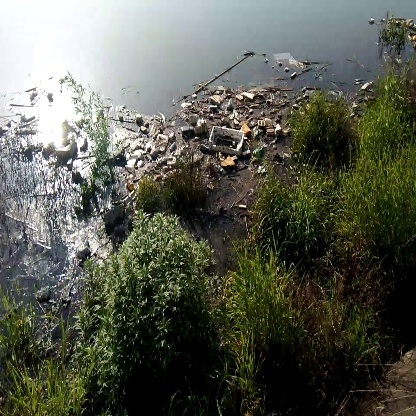branch: (185, 53, 255, 94)
plastic-garbage: (207, 123, 250, 159)
